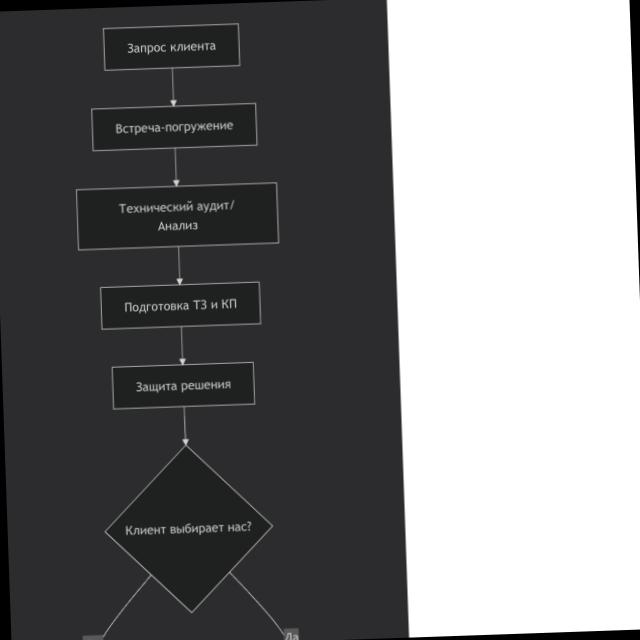arrow: (180, 407, 188, 444), (174, 148, 179, 186), (180, 327, 185, 364), (177, 247, 182, 284), (171, 69, 176, 106)
diamond: (104, 444, 274, 613)
rectangle: (76, 183, 278, 250), (100, 282, 261, 330), (92, 103, 256, 150), (113, 363, 255, 409), (104, 24, 240, 70)
